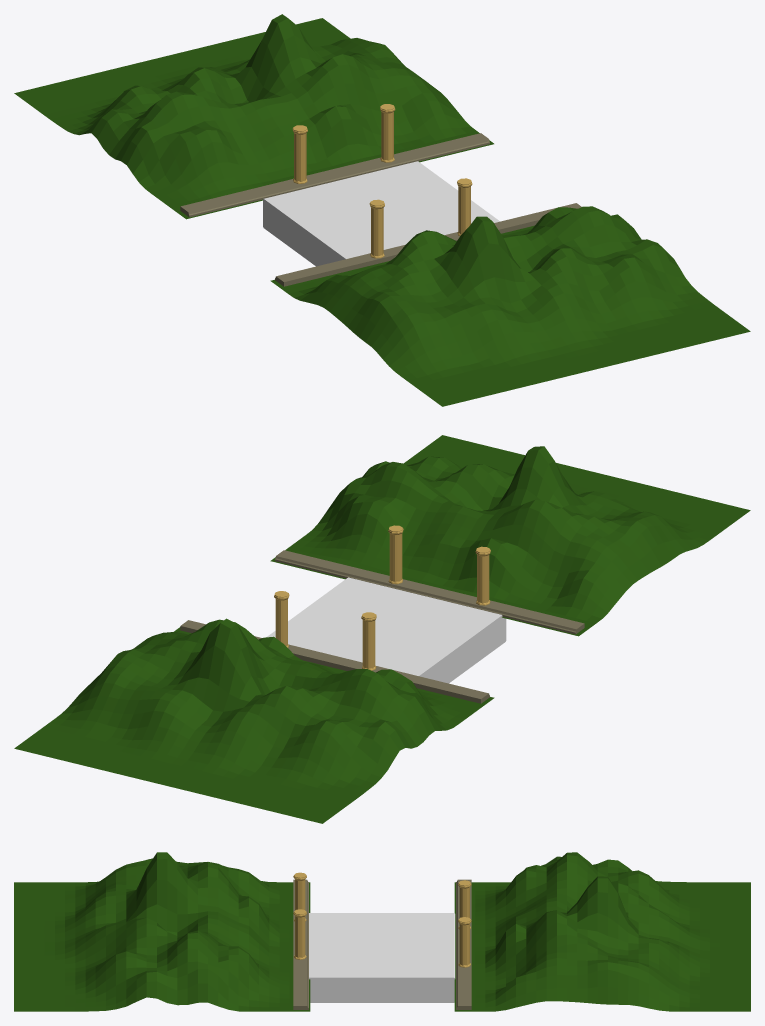
File: BasicTile.fbx
3 renders of one model, top to bottom at view 1: azimuth 30°, elevation 25°; view 2: azimuth 150°, elevation 25°; view 3: azimuth 270°, elevation 25°, orthographic. The views are drawn at different scales.
Parts seen in each view (by area): view 1: Left_Mountain, Right_Mountain, Ground, Right_PBase, Left_PBase, Pillar002, Pillar005, Pillar006, Pillar001; view 2: Right_Mountain, Left_Mountain, Ground, Left_PBase, Right_PBase, Pillar001, Pillar005, Pillar002, Pillar006; view 3: Left_Mountain, Right_Mountain, Ground, Left_PBase, Right_PBase, Pillar001, Pillar006, Pillar002, Pillar005.
Boxes of the visible parts, <box> form: Left_Mountain: <box>270,206,750,406</box>; Right_Mountain: <box>14,14,493,219</box>; Ground: <box>263,161,499,266</box>; Right_PBase: <box>180,133,489,217</box>; Left_PBase: <box>275,203,581,286</box>; Pillar002: <box>369,199,384,258</box>; Pillar005: <box>292,125,307,183</box>; Pillar006: <box>380,104,395,162</box>; Pillar001: <box>457,178,472,236</box>; Right_Mountain: <box>14,618,494,823</box>; Left_Mountain: <box>270,435,750,636</box>; Ground: <box>267,577,506,683</box>; Left_PBase: <box>275,550,584,634</box>; Right_PBase: <box>180,620,489,703</box>; Pillar001: <box>388,525,403,584</box>; Pillar005: <box>361,612,376,670</box>; Pillar002: <box>475,546,490,605</box>; Pillar006: <box>274,591,289,647</box>; Left_Mountain: <box>14,852,310,1011</box>; Right_Mountain: <box>454,852,750,1011</box>; Ground: <box>309,913,455,1002</box>; Left_PBase: <box>293,879,308,1009</box>; Right_PBase: <box>456,879,471,1009</box>; Pillar001: <box>293,909,306,959</box>; Pillar006: <box>458,917,471,967</box>; Pillar002: <box>293,872,306,921</box>; Pillar005: <box>458,880,471,929</box>.
Bounding box in the file's own units: 6 × 2.27 × 14.43.
